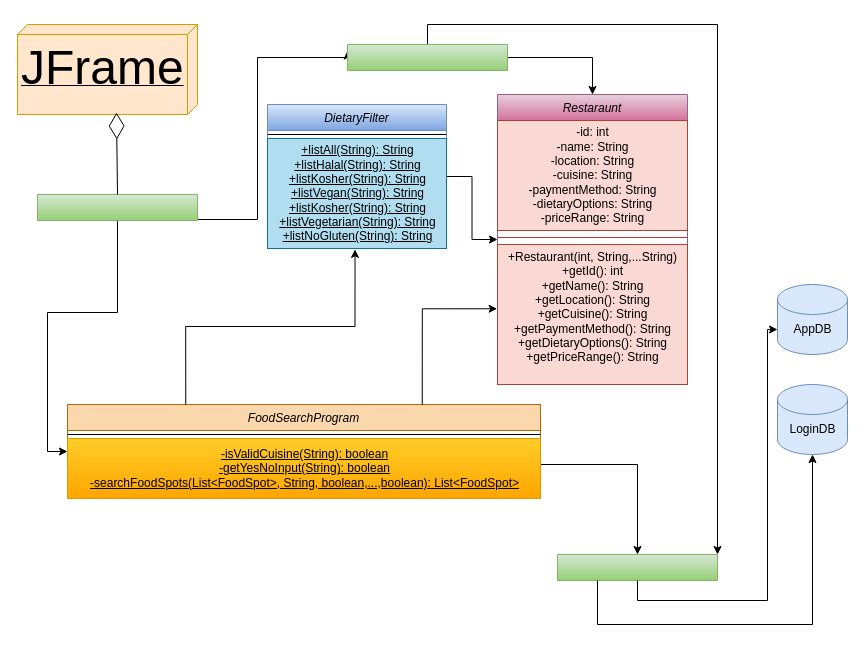
Image size: 865x650. Some labels were removed from this diagram. Each missing label, with the centre of its shape:
"DatabaseConnection" goes at (637,567).
"FoodSearchGUI" goes at (117,207).
"FoodValueService" goes at (427,57).
